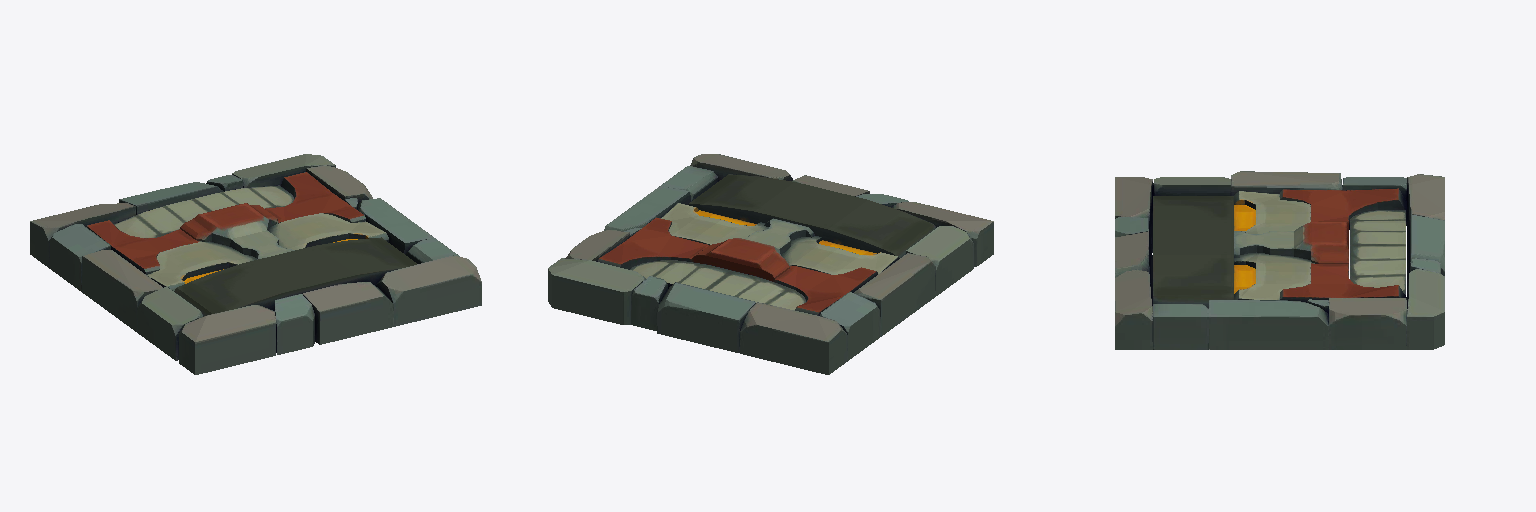
The picture shows the model from 3 angles: view 1: azimuth 30°, elevation 25°; view 2: azimuth 150°, elevation 25°; view 3: azimuth 270°, elevation 25°; orthographic projection.
Visible parts, largest first — view 1: OBJ_Sculpture_01; view 2: OBJ_Sculpture_01; view 3: OBJ_Sculpture_01.
Part boxes in pixels (x1,y1,x2,y2): OBJ_Sculpture_01: (30,154,481,374); OBJ_Sculpture_01: (548,154,993,374); OBJ_Sculpture_01: (1115,171,1444,349).
Size of the model in its own units: 3.6 by 0.5739 by 3.6.
Materials: 1 (1 with a texture image).